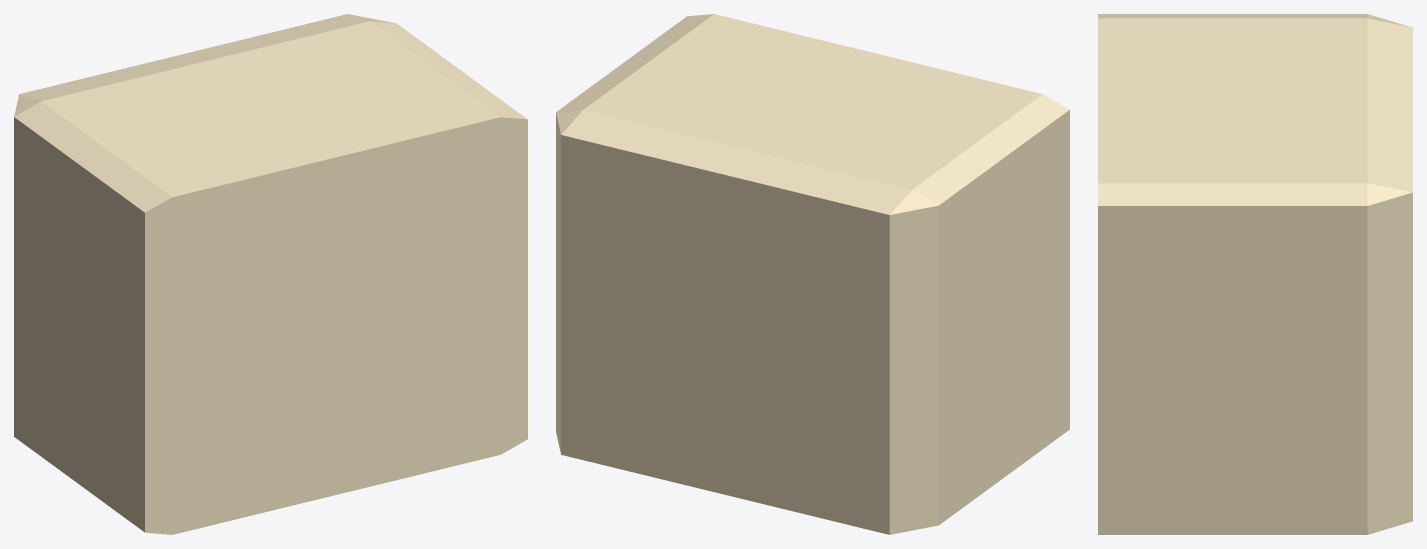
The model's file is MotherQueen_Glow_02.fbx.
The picture shows the model from 3 angles, left to right: view 1: azimuth 30°, elevation 25°; view 2: azimuth 150°, elevation 25°; view 3: azimuth 270°, elevation 25°; orthographic projection. The views are drawn at different scales.
Parts seen in each view (by area): view 1: pCube2; view 2: pCube2; view 3: pCube2.
Part boxes in pixels (left/top/right/bottom): pCube2: left=14, top=14, right=527, bottom=534; pCube2: left=556, top=14, right=1069, bottom=534; pCube2: left=1098, top=14, right=1412, bottom=534.
Bounding box in the file's own units: 67.78 × 57.13 × 46.95.
